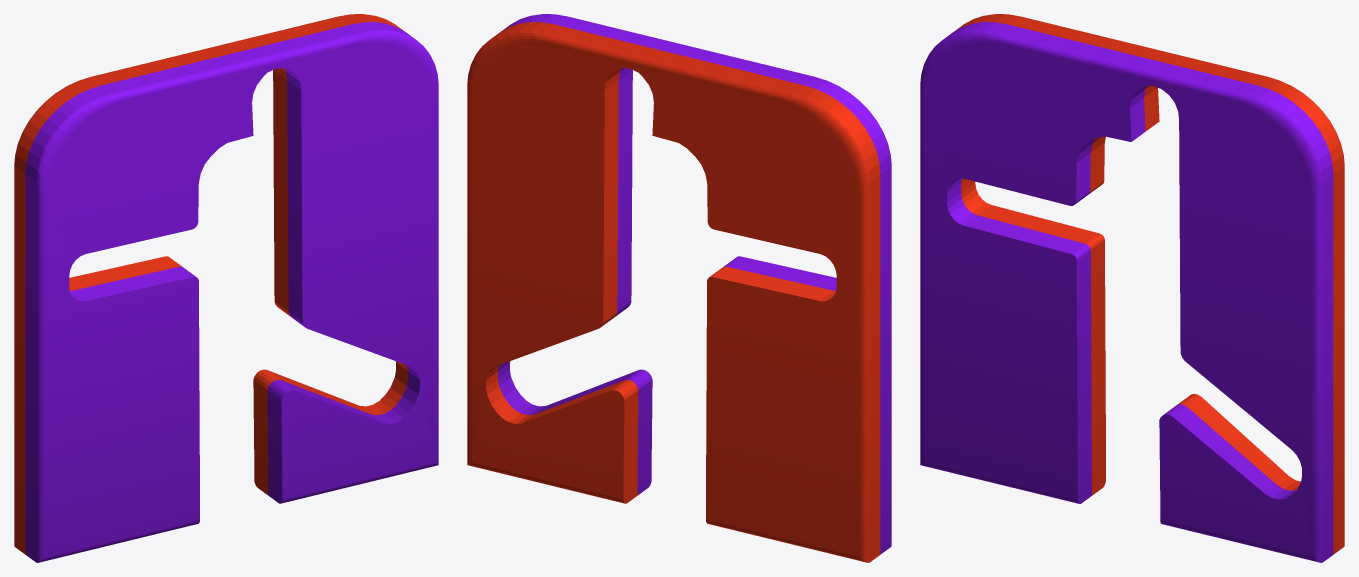
File: wall_21.fbx
3 views of the same model, side by side, from view 1: azimuth 30°, elevation 25°; view 2: azimuth 150°, elevation 25°; view 3: azimuth 330°, elevation 25° (orthographic).
Visible parts, largest first — view 1: wall_21; view 2: wall_21; view 3: wall_21.
Part boxes in pixels (left/top/right/bottom): wall_21: left=14, top=14, right=438, bottom=562; wall_21: left=467, top=14, right=891, bottom=562; wall_21: left=920, top=14, right=1344, bottom=562.
Bounding box in the file's own units: 337 × 362 × 40.95.
Materials: 1 (1 with a texture image).
